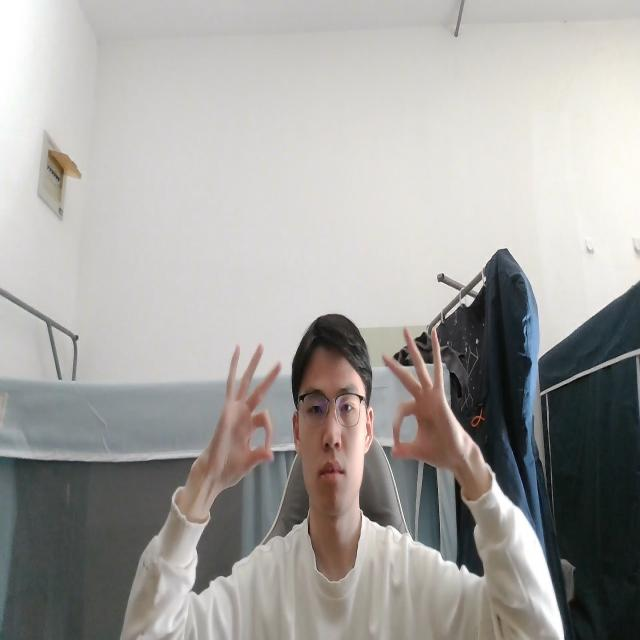ok: (188, 336, 284, 505), (375, 322, 476, 482)
